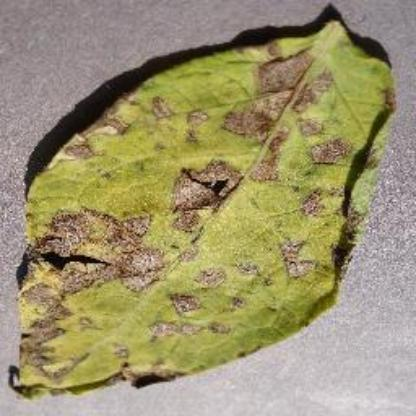Early-Blight: (10, 13, 398, 400)
